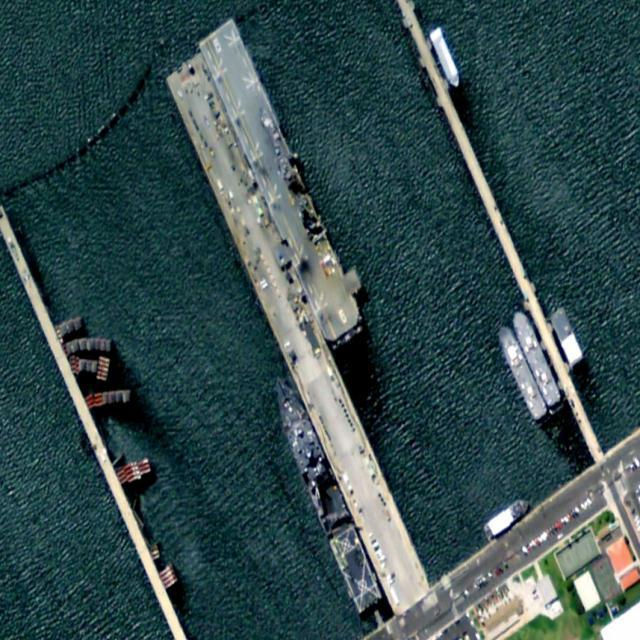Landing: (189, 7, 374, 354), (265, 366, 383, 617)
Other Ship: (509, 305, 562, 410), (495, 321, 547, 422), (429, 26, 464, 92)
